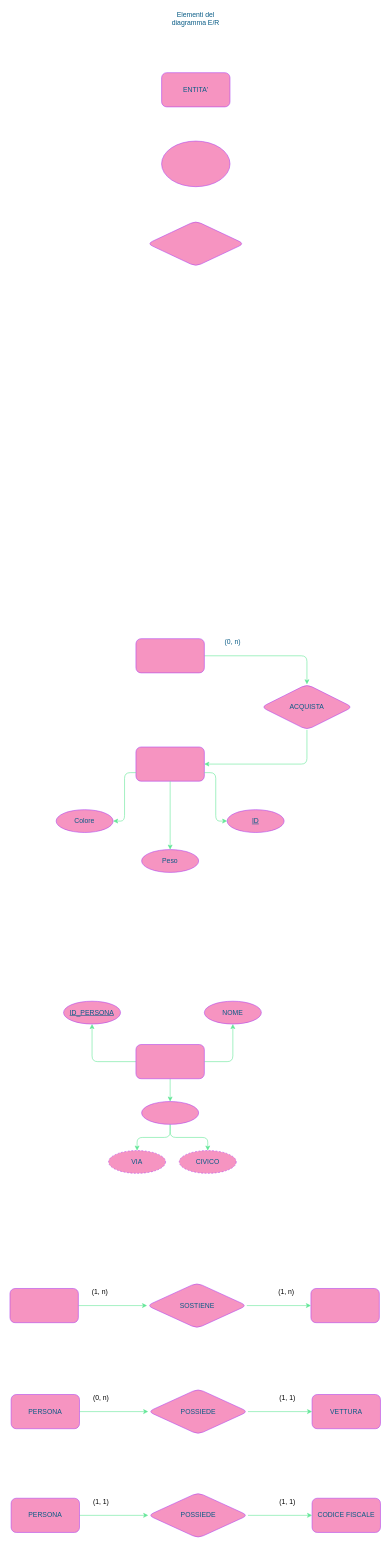
Image size: 390x1548. Some labels were removed from this diagram. Each missing label, with the box of its shape:
ATTRIBUTO: (161, 141, 230, 187)
CLIENTE: (135, 638, 204, 673)
ENTITA' PERSONA: (135, 1044, 204, 1079)
ESAMI: (310, 1288, 379, 1323)
INDIRIZZO: (141, 1101, 199, 1124)
PRODOTTO: (135, 746, 204, 781)
RELAZIONE: (147, 220, 244, 266)
STUDENTE: (9, 1288, 78, 1323)
